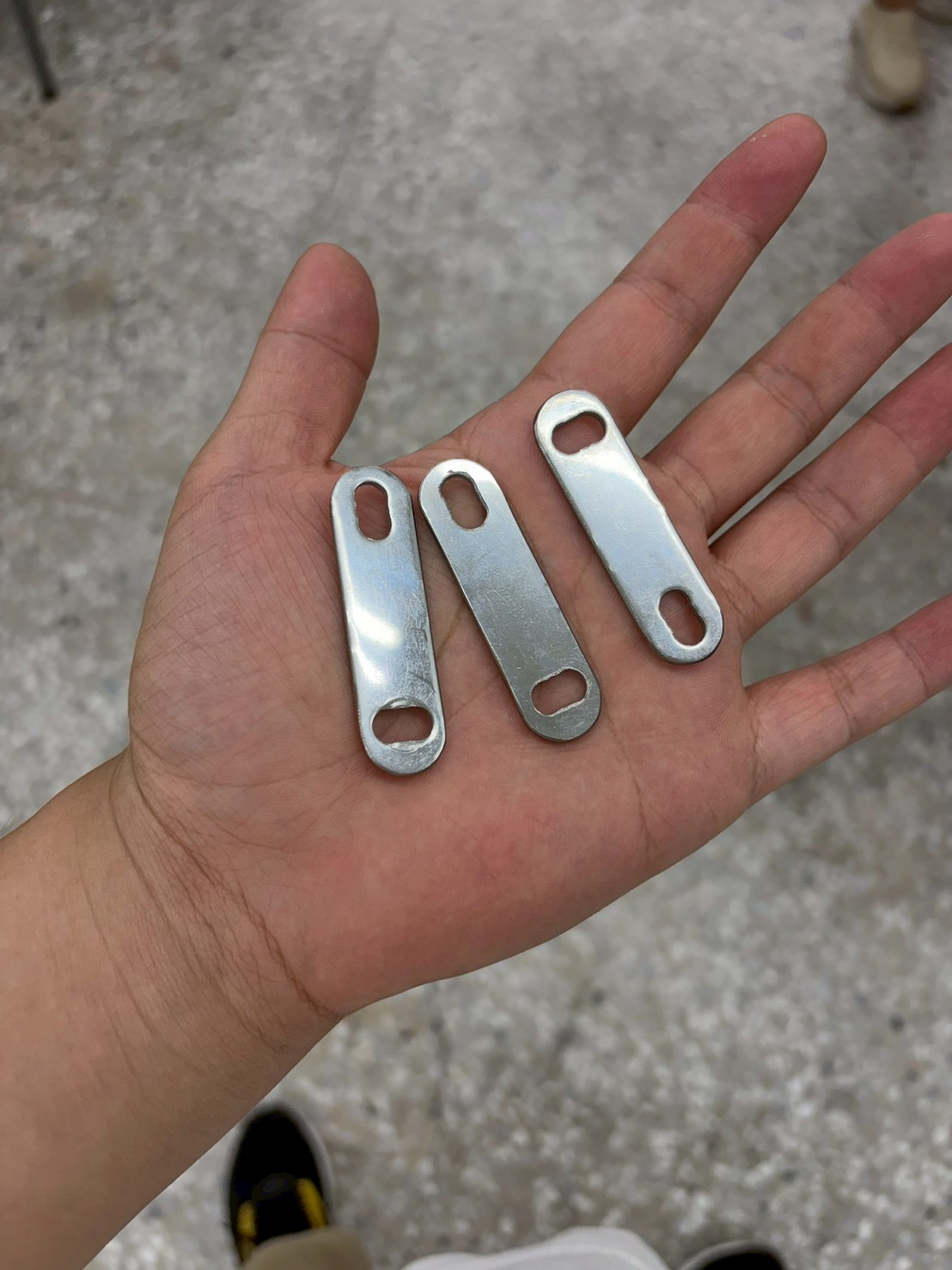Fe: (509, 411, 599, 735), (397, 471, 487, 795), (319, 467, 409, 791)
